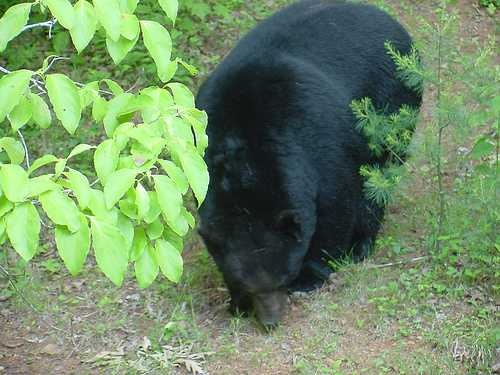bear: (193, 207, 321, 335)
